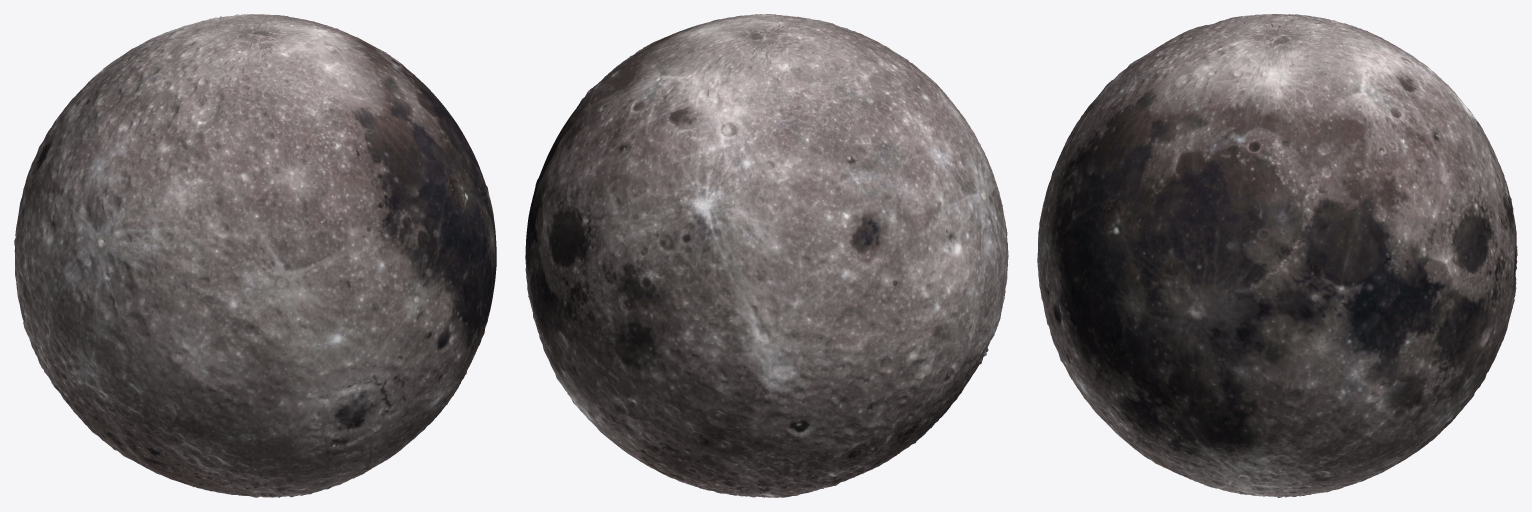
File: moon.glb
3 views of the same model, side by side, from view 1: azimuth 30°, elevation 25°; view 2: azimuth 150°, elevation 25°; view 3: azimuth 270°, elevation 25° (orthographic).
Visible parts, largest first — view 1: Sphere; view 2: Sphere; view 3: Sphere.
Boxes of the visible parts, x1,y1,x2,y2 form: Sphere: (14,14,496,497); Sphere: (525,14,1008,497); Sphere: (1037,14,1517,497).
Size of the model in its own units: 1.97 by 1.99 by 1.97.
1 material, 1 textured.
